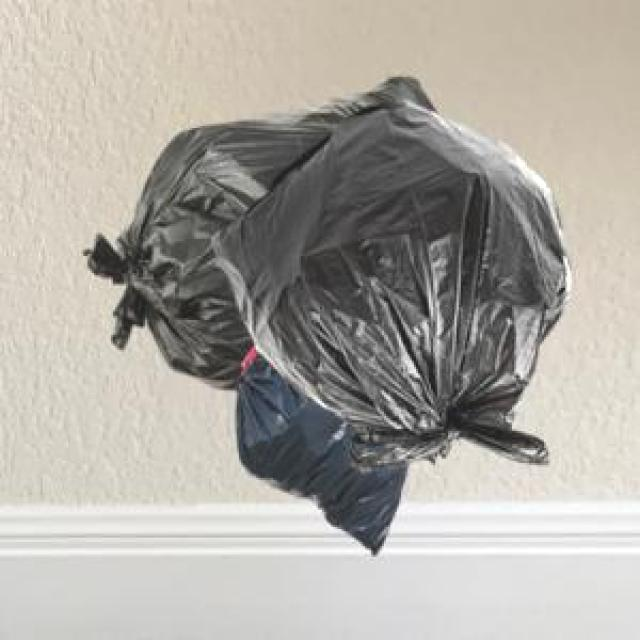Trashbag: (210, 102, 575, 470)
